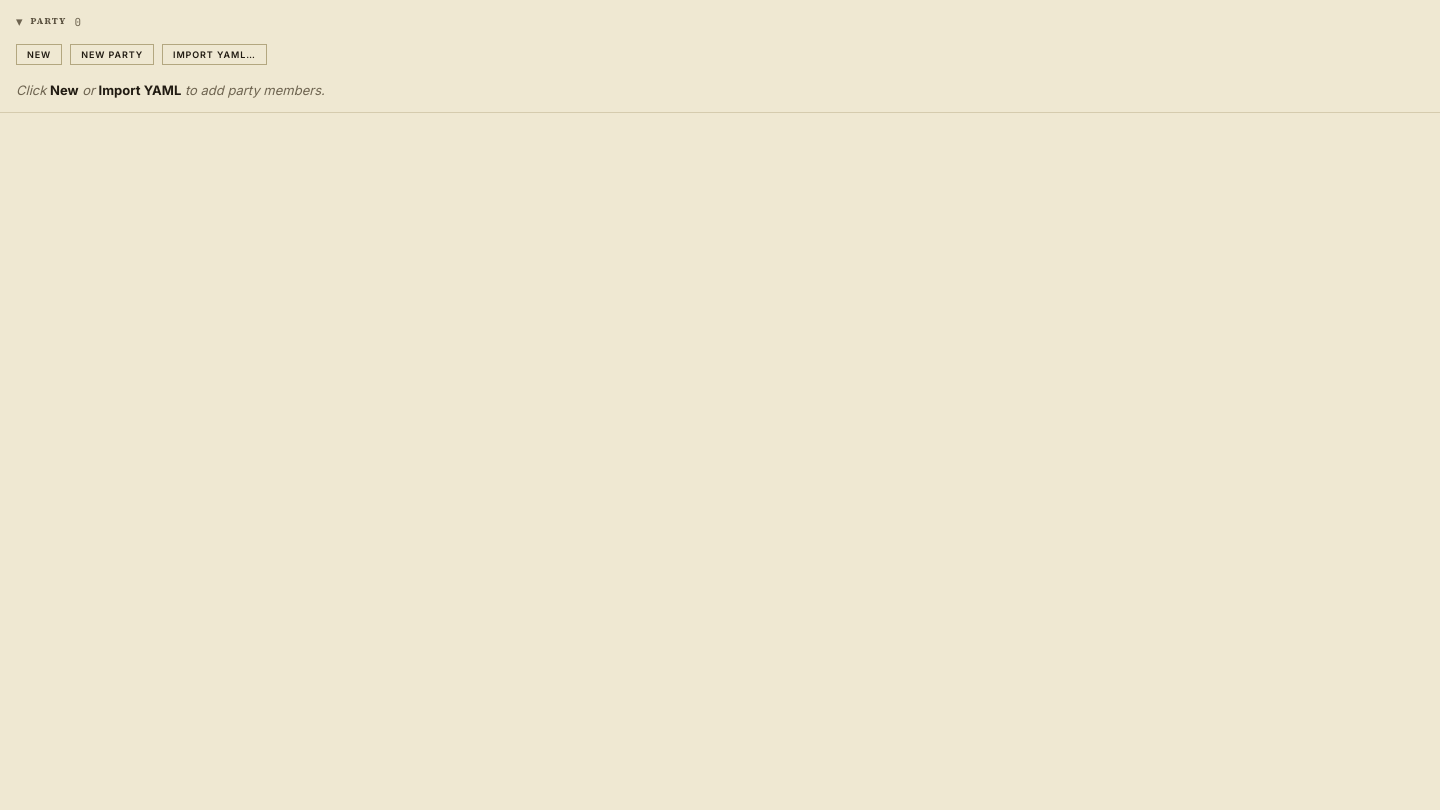
PartySection — edit modal › clicking New opens the modal in create mode
Click the button "New": (39, 54) [16,44,62,64]
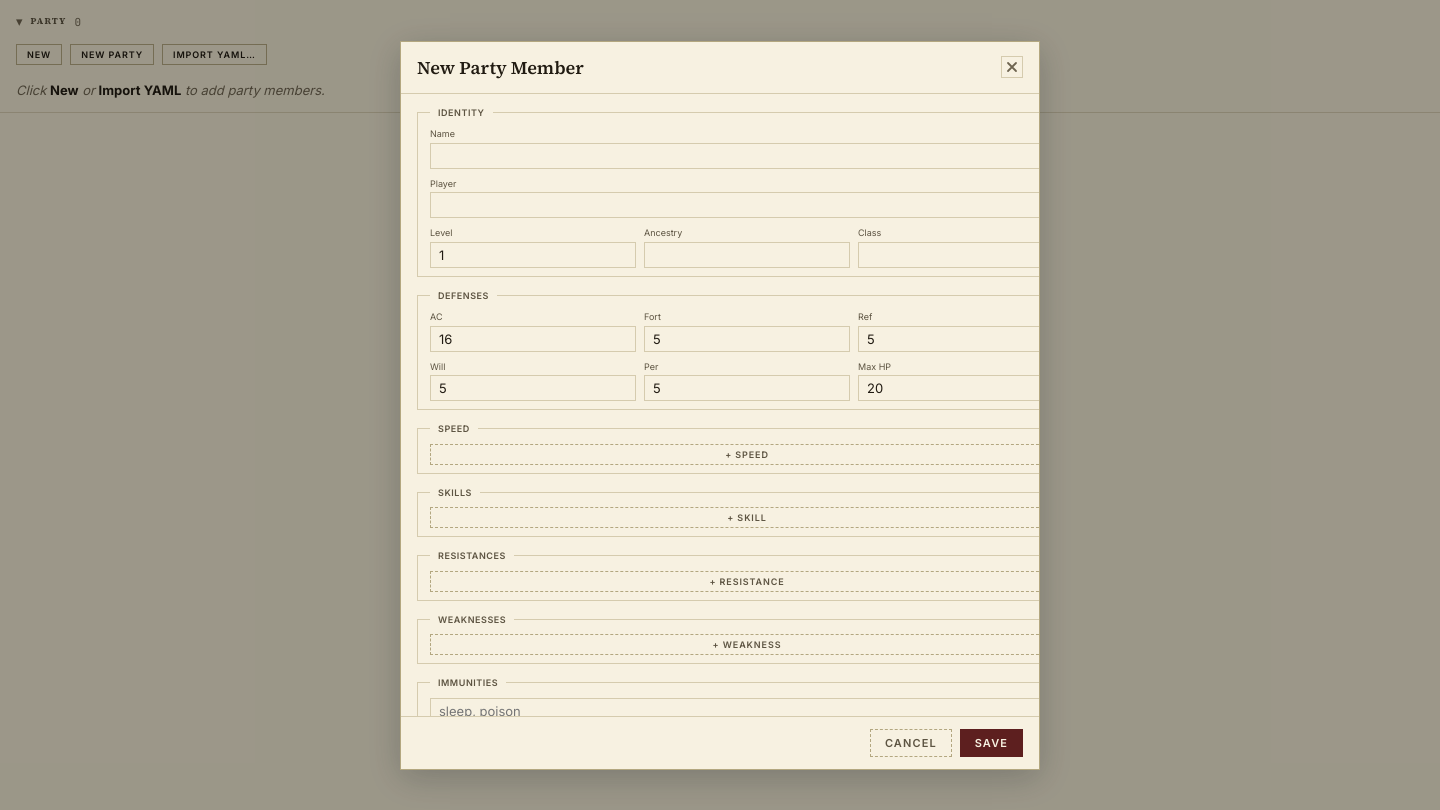
Expected: the dialog is shown, [400,40,1040,770]
Expected: the heading "New Party Member" is shown, [417,54,584,80]
